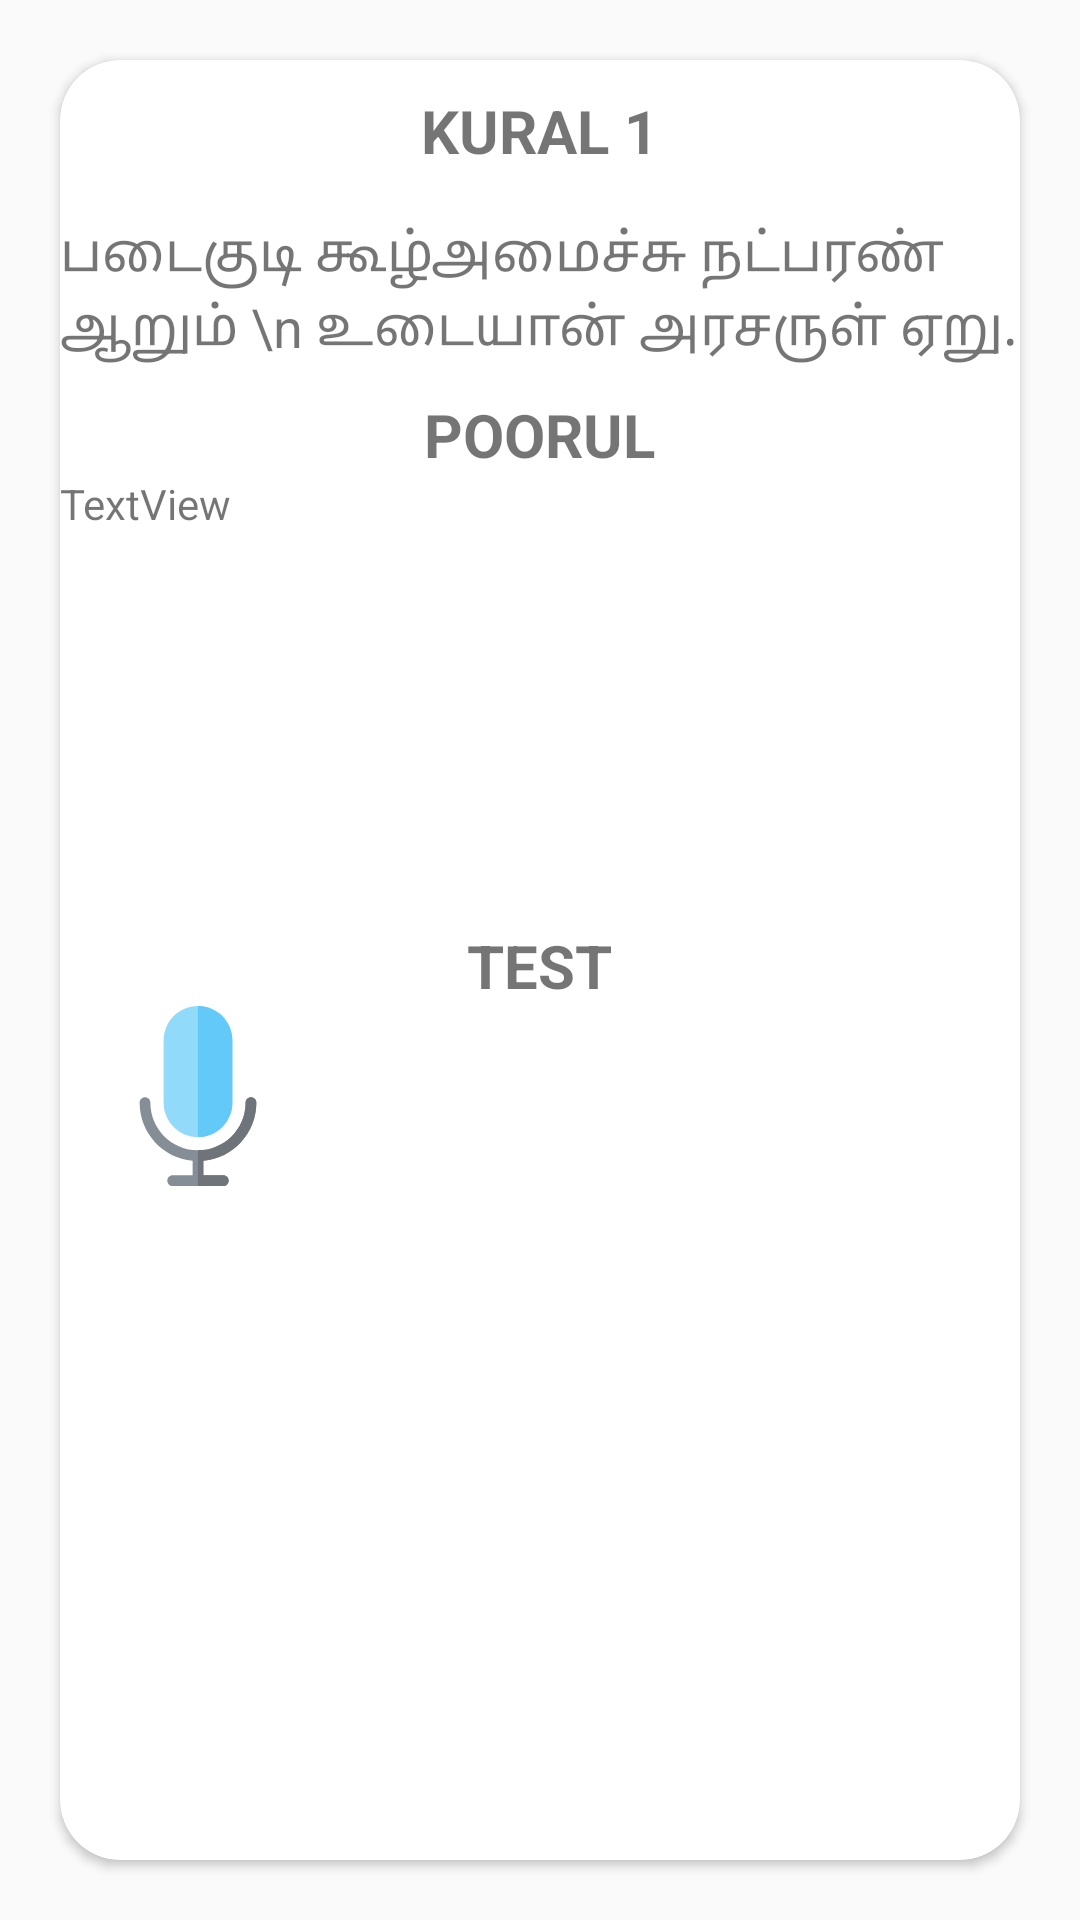

Icon click points for this 1080w x 1920h phone screenshot, format (x,y):
microphone: (198,1096)
